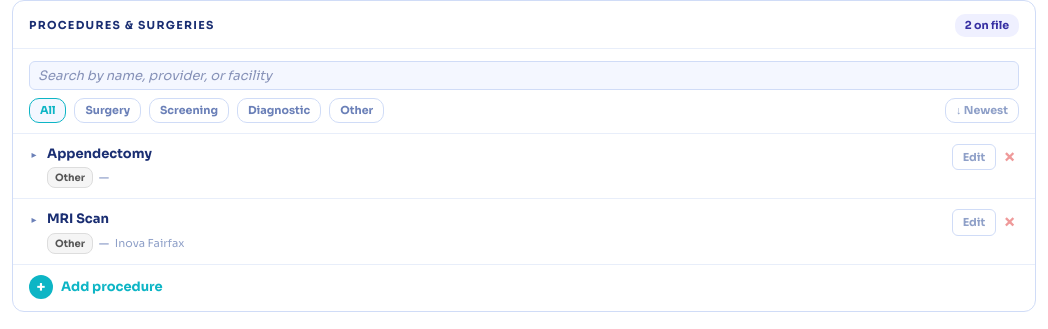
Scenario: ProcedureList — search › search by procedure name hides non-matching rows
Type "Appendectomy" into the field with placeholder "Search by name, provider, or facility".
click(524, 75); type("Appendectomy")  # box [29,60,1019,90]
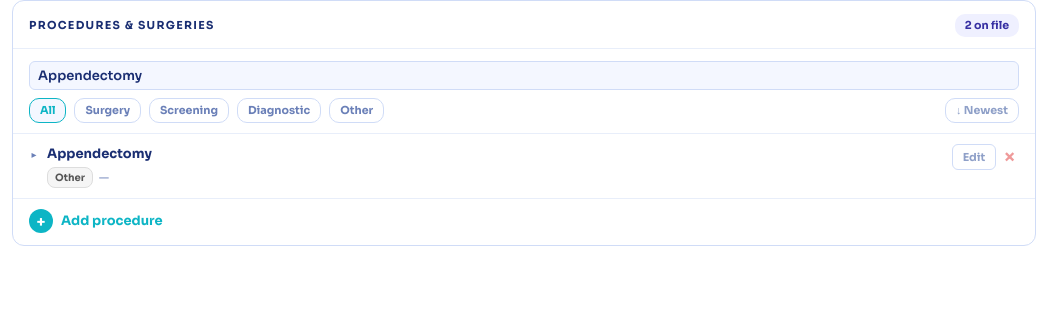
Expected: the text "Appendectomy" is shown, [47,144,152,162]
Expected: the text "MRI Scan" is gone
